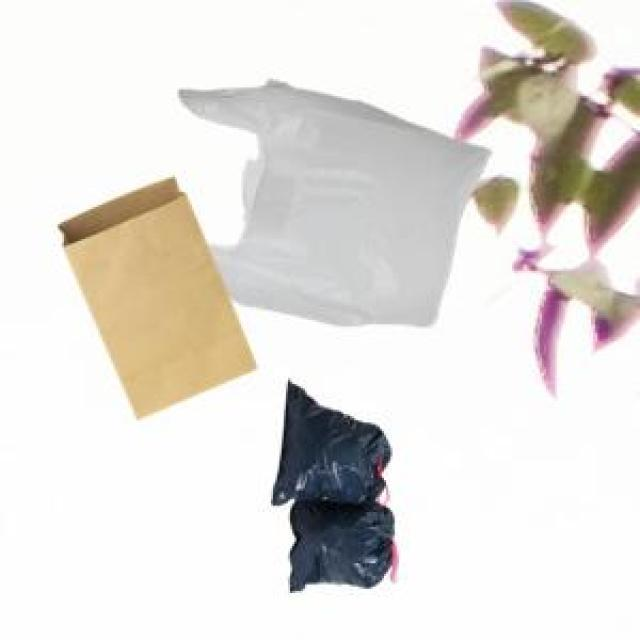miscellaneous trash: (269, 378, 393, 587)
paper: (56, 173, 252, 414)
